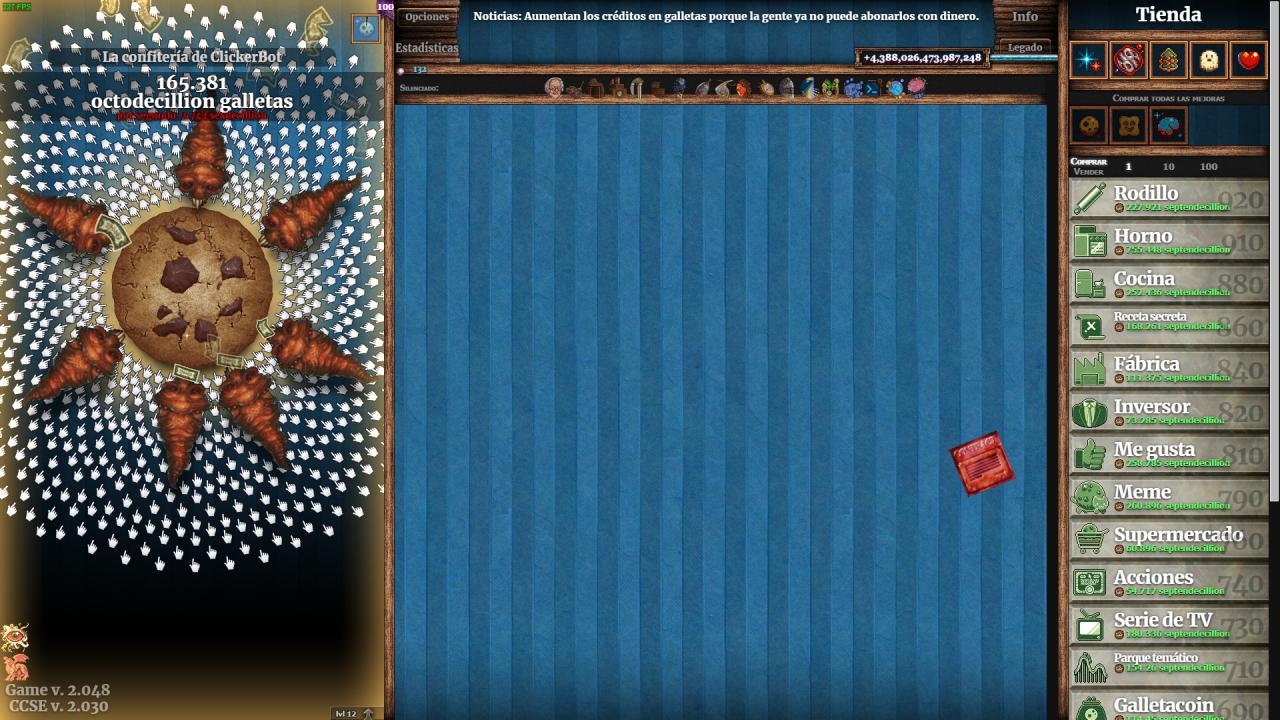RedCartridge: (948, 428, 1018, 499)
